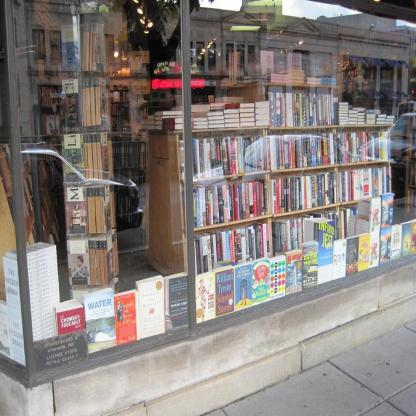book: (0, 0, 416, 367), (135, 274, 166, 336)
